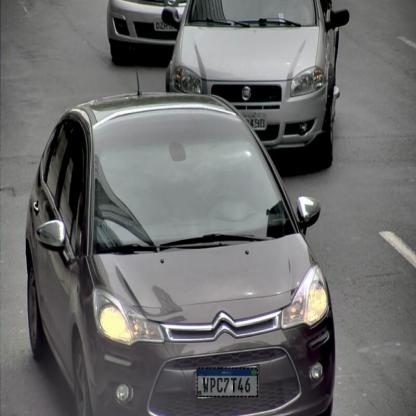PlacaM: (196, 368, 258, 398)
